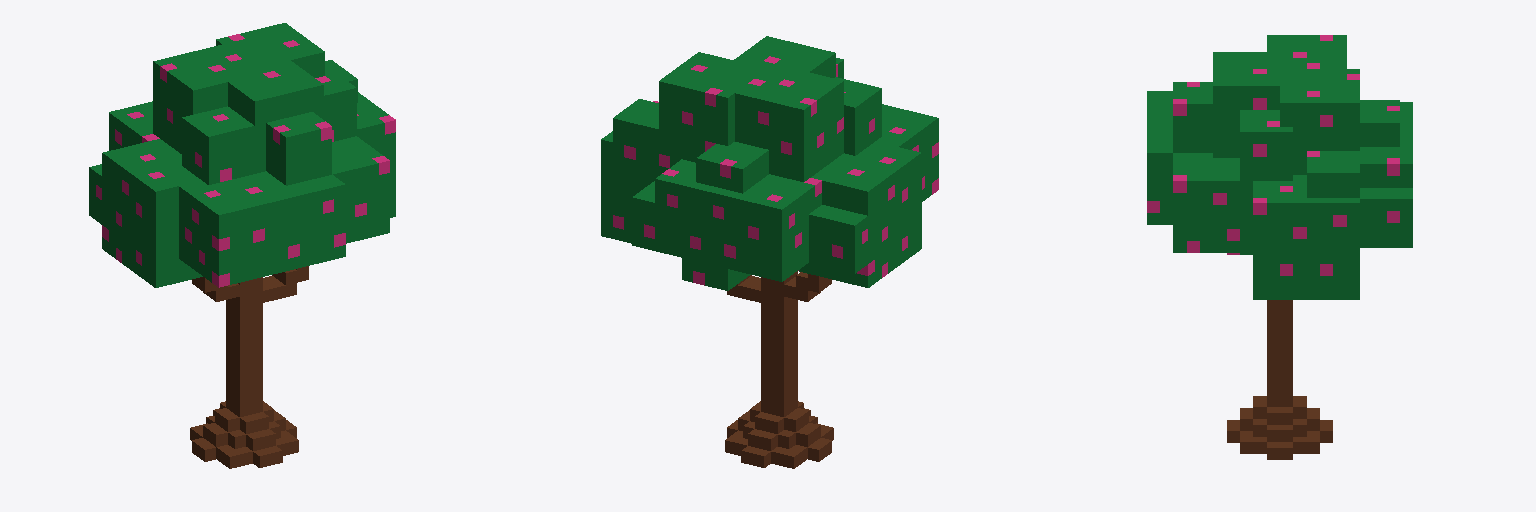
The picture shows the model from 3 angles: view 1: azimuth 30°, elevation 25°; view 2: azimuth 150°, elevation 25°; view 3: azimuth 270°, elevation 25°; orthographic projection.
Visible parts, largest first — view 1: object 1; view 2: object 1; view 3: object 1.
Part boxes in pixels (bbox=[...]): object 1: bbox=[89, 23, 395, 468]; object 1: bbox=[601, 36, 938, 468]; object 1: bbox=[1147, 35, 1412, 459].
Bounding box in the file's own units: 2.2 × 3.1 × 2.
Materials: 1 (1 with a texture image).